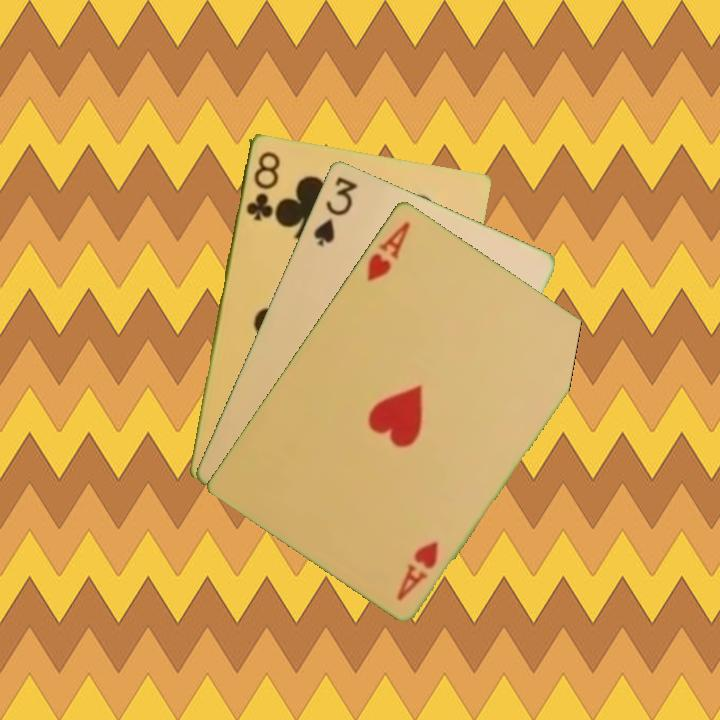3s: (309, 172, 360, 249)
8c: (242, 147, 283, 223)
Ah: (363, 217, 413, 284), (393, 537, 442, 604)
